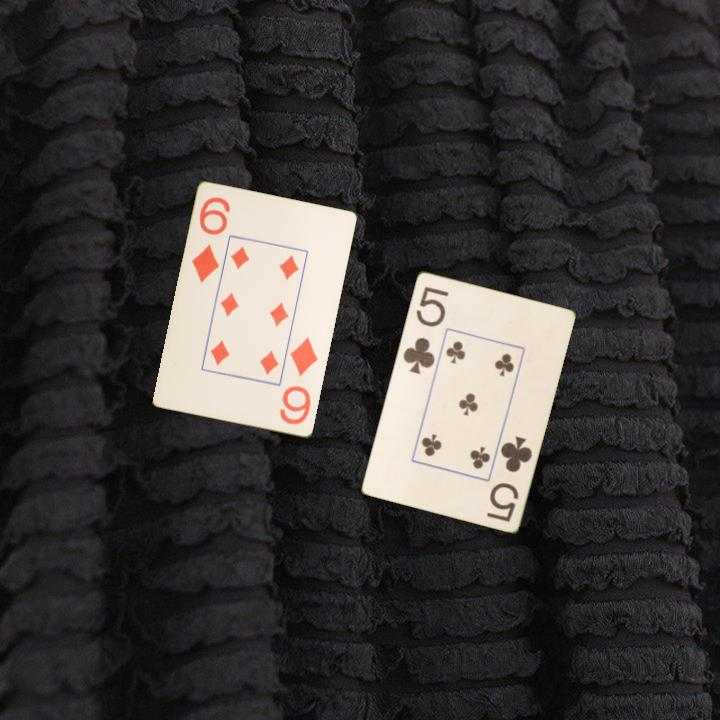5c: (482, 432, 535, 525), (399, 283, 451, 377)
6d: (276, 334, 321, 428), (188, 194, 233, 286)
